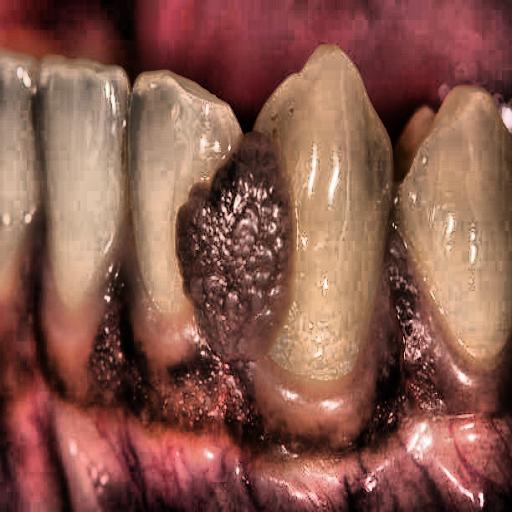Gingivitis: (2, 207, 275, 445), (164, 130, 310, 364), (354, 237, 485, 445)
